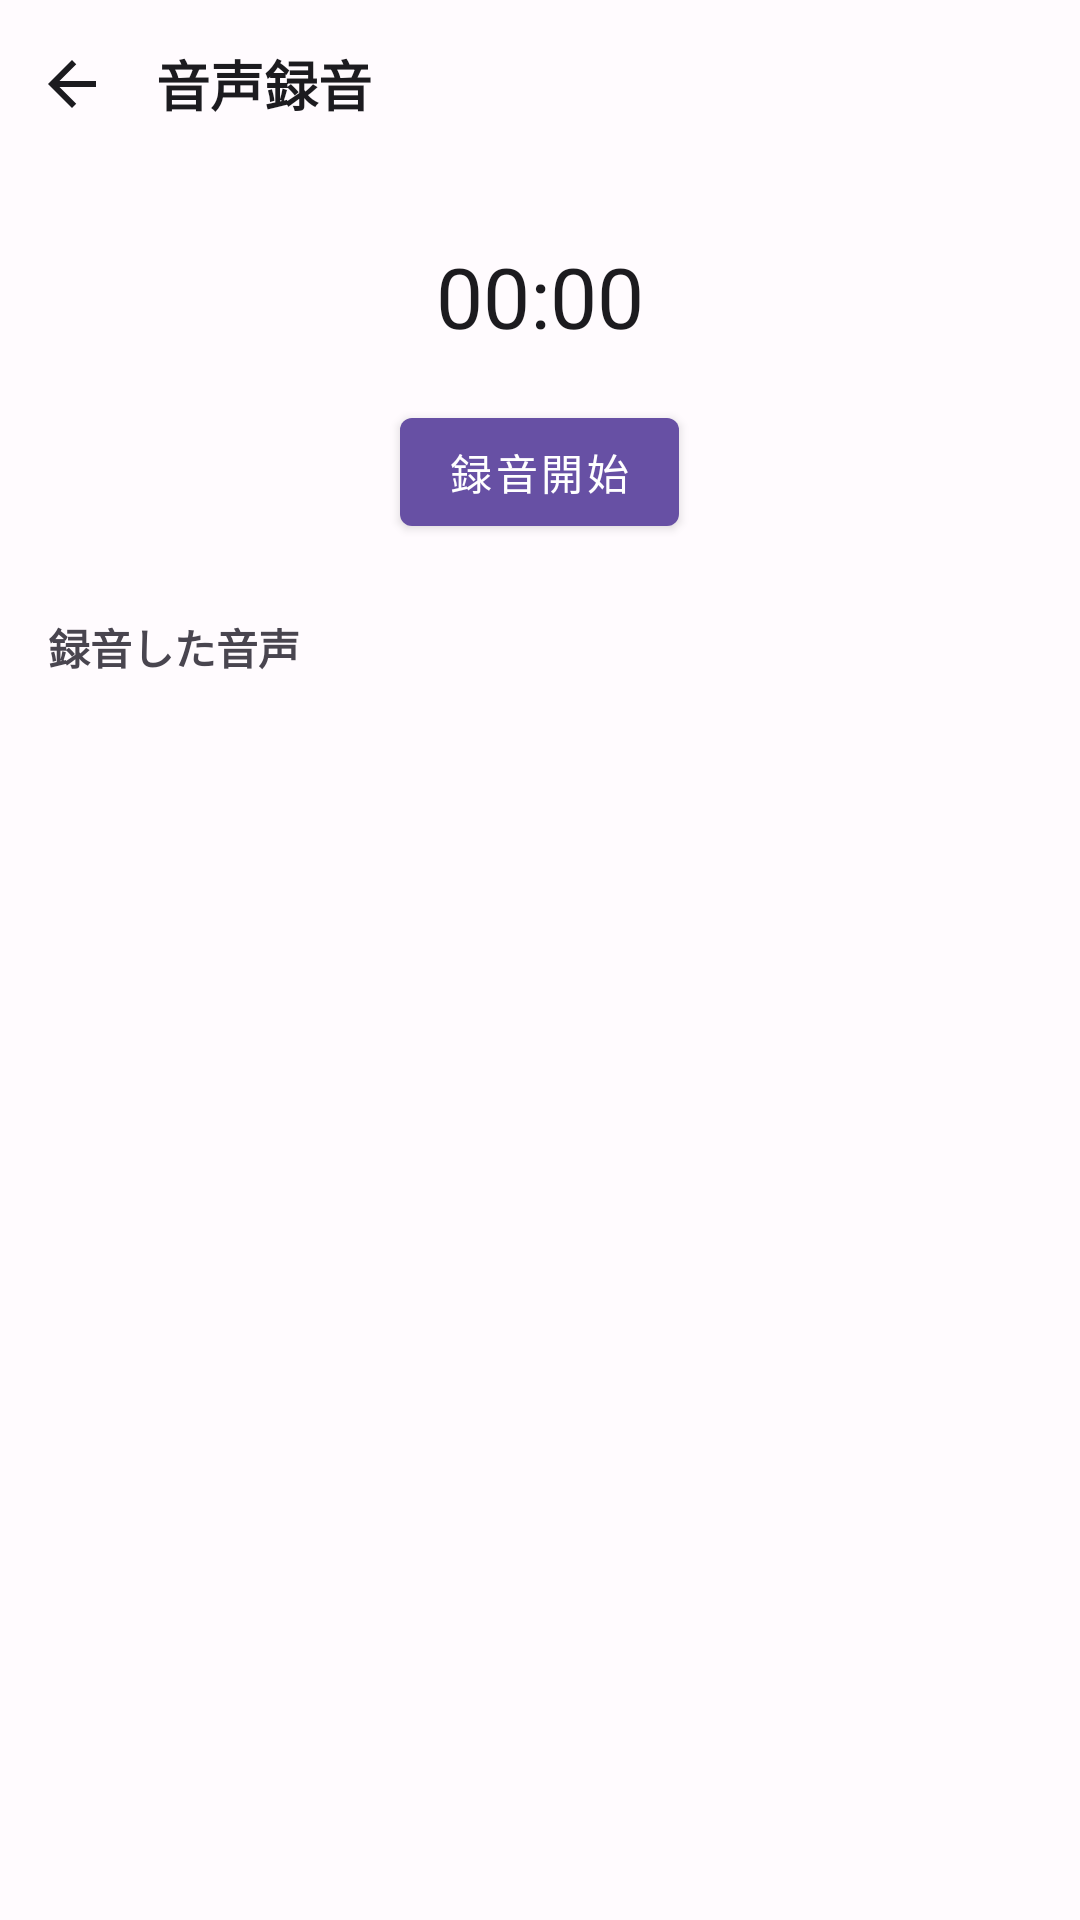

Icon click points for this 1080px x 1920px phone screenshot, format [x,y]:
戻る: [72,84]
